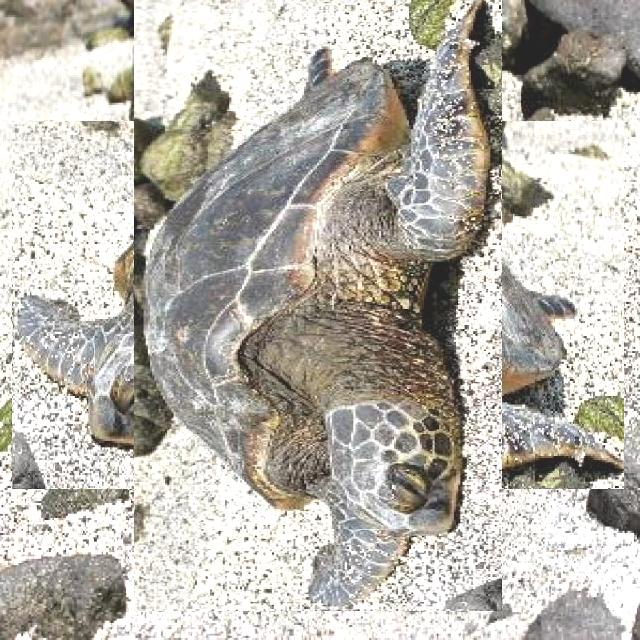Sea turtle: (73, 60, 563, 550)
